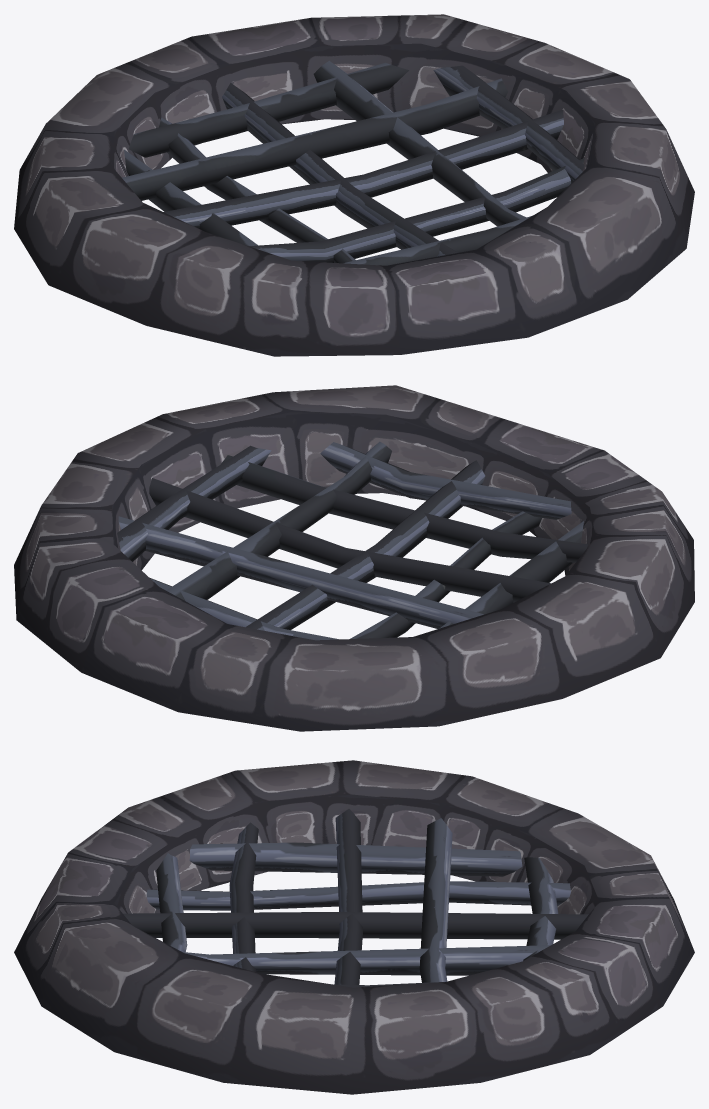
The model's file is SM_PROP_platform_grid_dungeon.fbx.
3 renders of one model, top to bottom at view 1: azimuth 30°, elevation 25°; view 2: azimuth 150°, elevation 25°; view 3: azimuth 270°, elevation 25°, orthographic. The views are drawn at different scales.
Visible parts, largest first — view 1: SM_PROP_platform_grid_dungeon; view 2: SM_PROP_platform_grid_dungeon; view 3: SM_PROP_platform_grid_dungeon.
Boxes of the visible parts, <box> form: SM_PROP_platform_grid_dungeon: <box>14,14,694,356</box>; SM_PROP_platform_grid_dungeon: <box>14,385,694,731</box>; SM_PROP_platform_grid_dungeon: <box>14,760,694,1094</box>.
Bounding box in the file's own units: 200 × 23.1 × 200.
